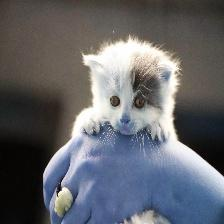kedo: (82, 39, 177, 140)
